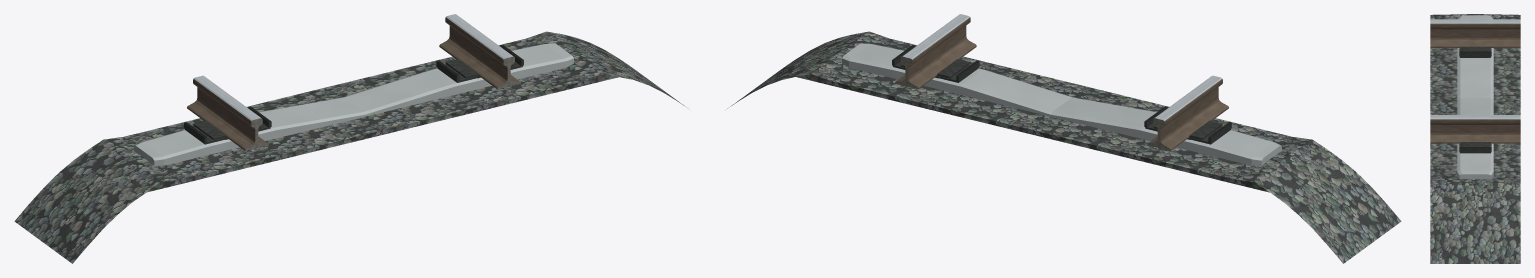
Rendered from rail_new_mid.obj.
3 views of the same model, side by side, from view 1: azimuth 30°, elevation 25°; view 2: azimuth 150°, elevation 25°; view 3: azimuth 270°, elevation 25° (orthographic). The views are drawn at different scales.
Visible parts, largest first — view 1: ballast, sleeper, rail_left, rail_right, fastener_left, fastener_right; view 2: ballast, sleeper, rail_left, rail_right, fastener_left, fastener_right; view 3: ballast, sleeper, rail_left, rail_right, fastener_right, fastener_left.
Boxes of the visible parts, x1=… form: ballast: x1=14, y1=31, x2=688, y2=263; sleeper: x1=134, y1=43, x2=573, y2=165; rail_left: x1=187, y1=75, x2=266, y2=150; rail_right: x1=439, y1=14, x2=519, y2=88; fastener_left: x1=184, y1=106, x2=271, y2=144; fastener_right: x1=436, y1=45, x2=523, y2=82; ballast: x1=727, y1=31, x2=1401, y2=263; sleeper: x1=842, y1=43, x2=1281, y2=165; rail_left: x1=1149, y1=75, x2=1228, y2=150; rail_right: x1=896, y1=14, x2=976, y2=88; fastener_left: x1=1144, y1=106, x2=1231, y2=144; fastener_right: x1=892, y1=45, x2=979, y2=82; ballast: x1=1430, y1=14, x2=1520, y2=263; sleeper: x1=1457, y1=15, x2=1493, y2=179; rail_left: x1=1430, y1=19, x2=1520, y2=47; rail_right: x1=1430, y1=115, x2=1520, y2=143; fastener_right: x1=1459, y1=142, x2=1491, y2=153; fastener_left: x1=1459, y1=46, x2=1491, y2=57.
Size of the model in its own units: 3.7 by 0.5683 by 0.6.
